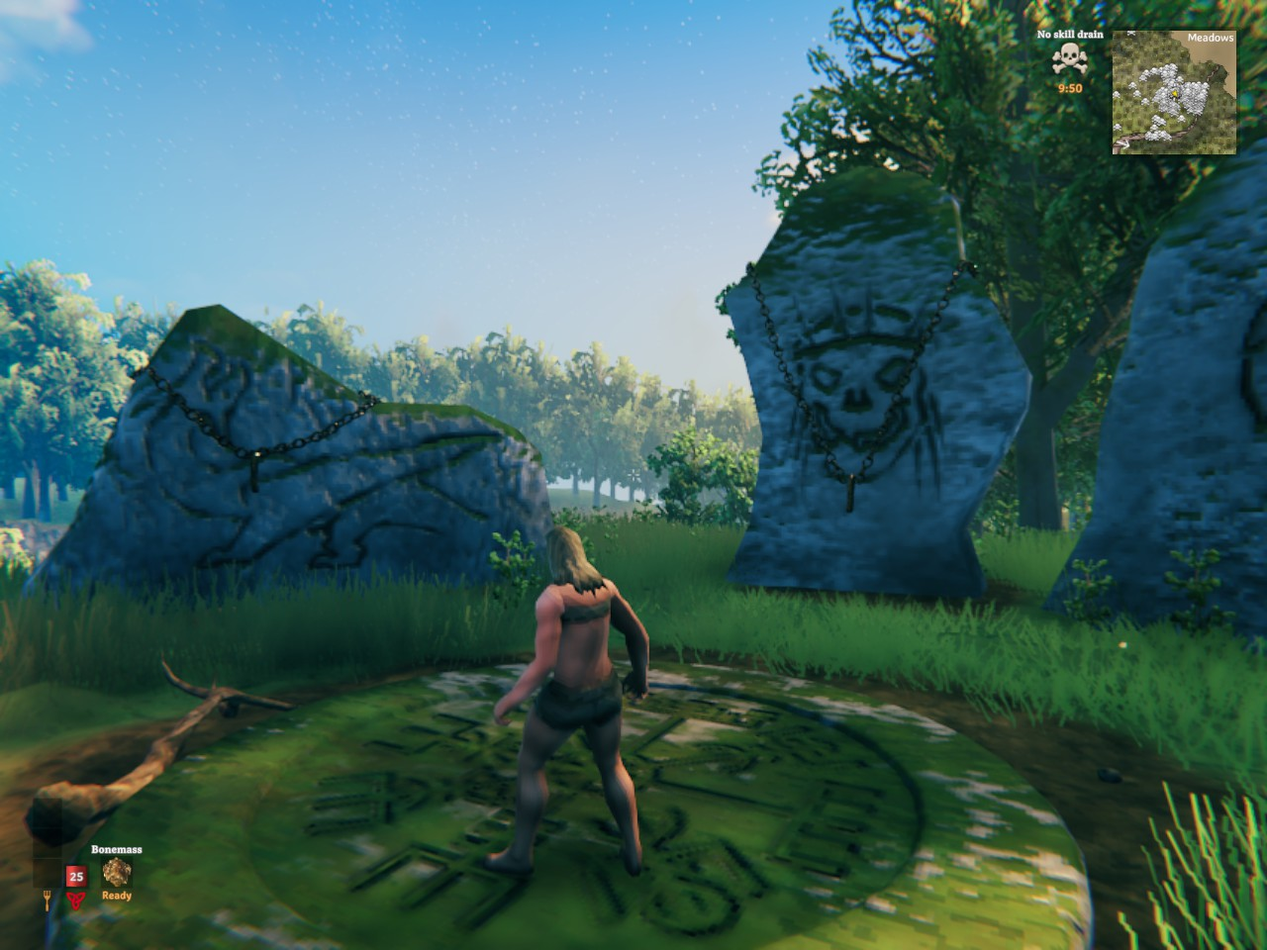Branch: (24, 659, 295, 845)
Spawn Point: (44, 661, 1093, 949)
